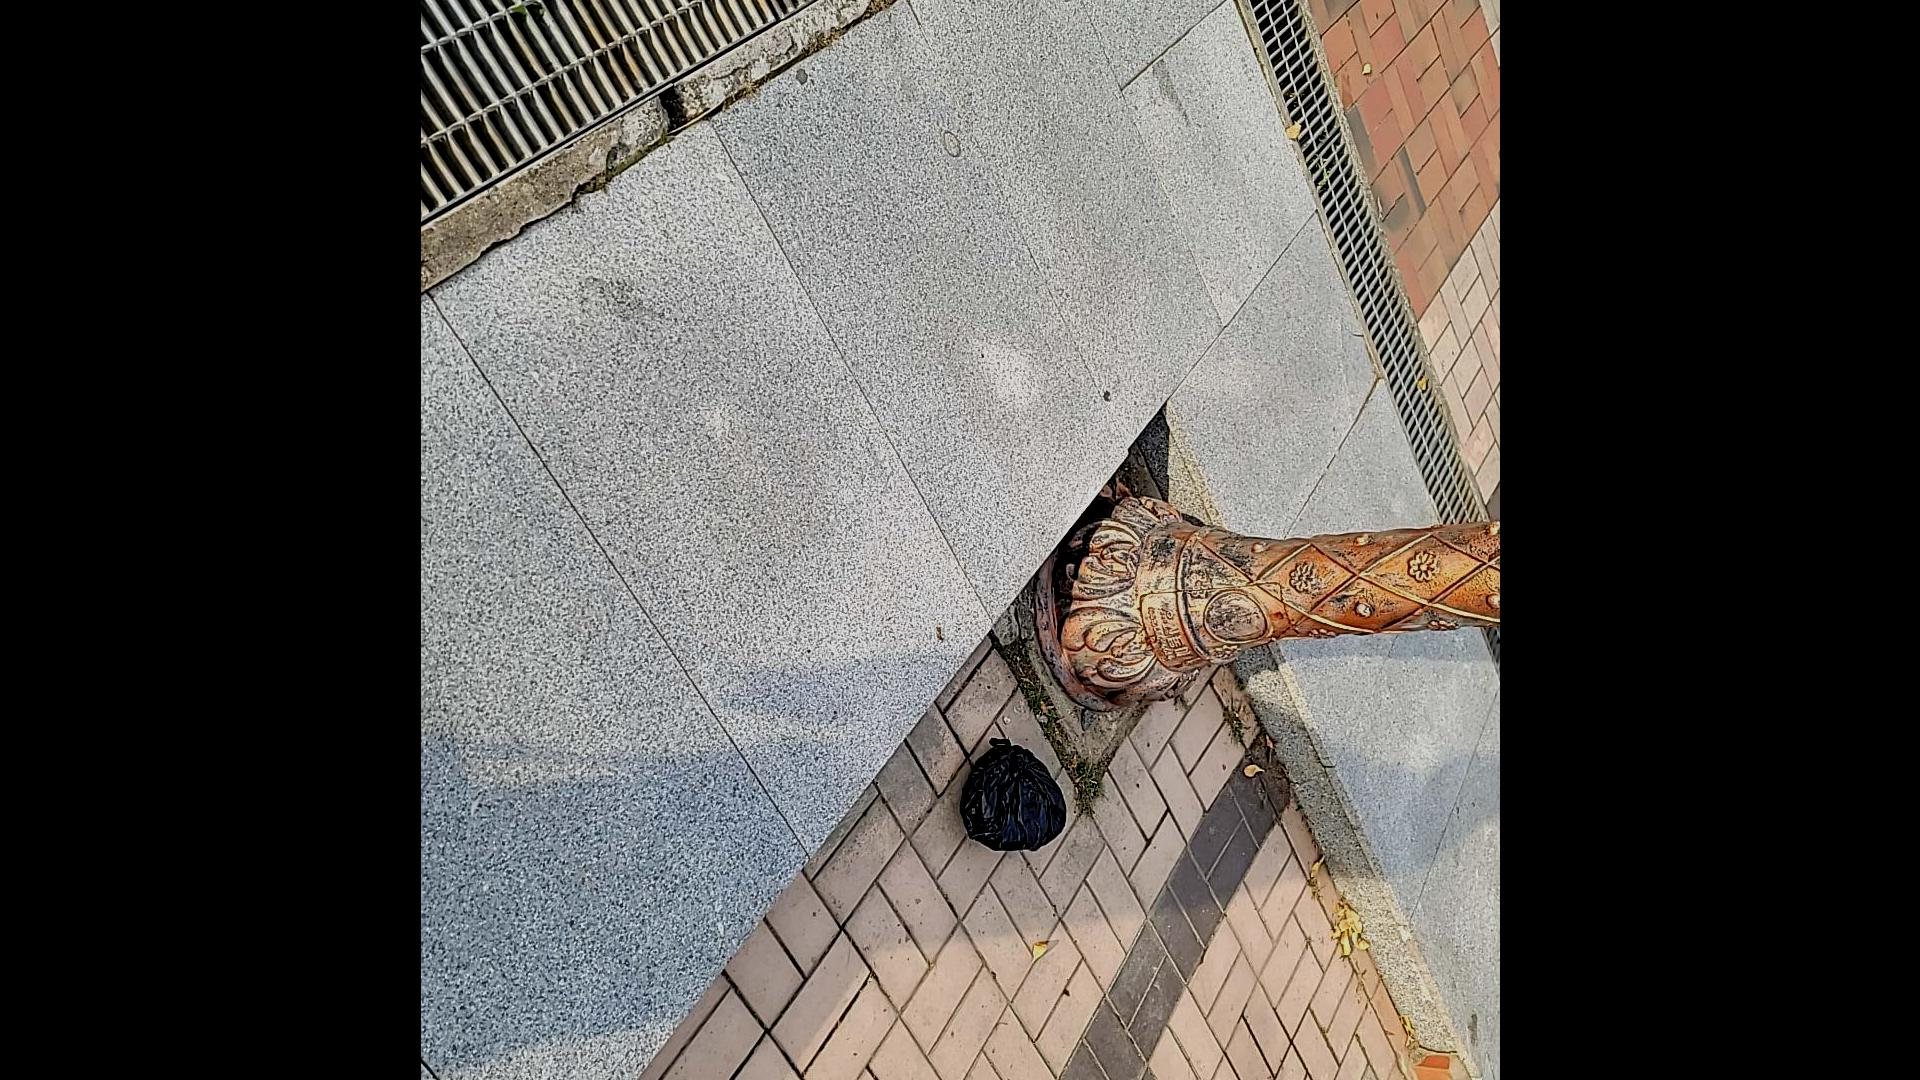black_bag: (955, 731, 1073, 858)
